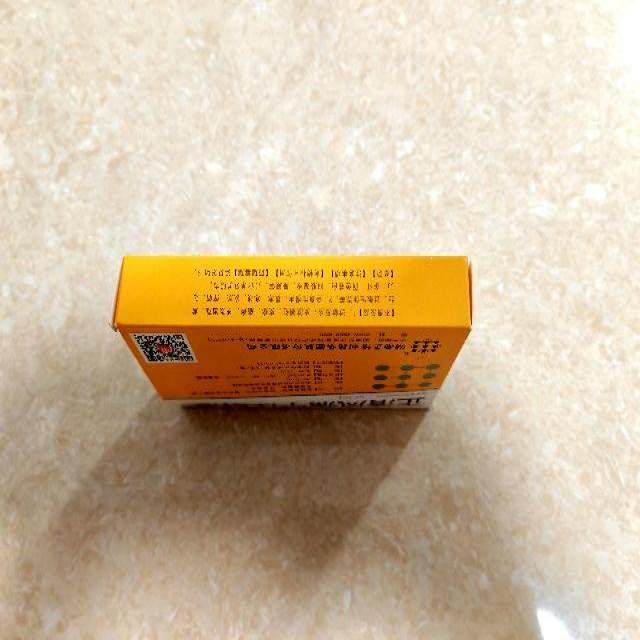box: (110, 252, 476, 408)
